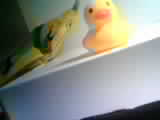duck: (81, 4, 143, 54)
